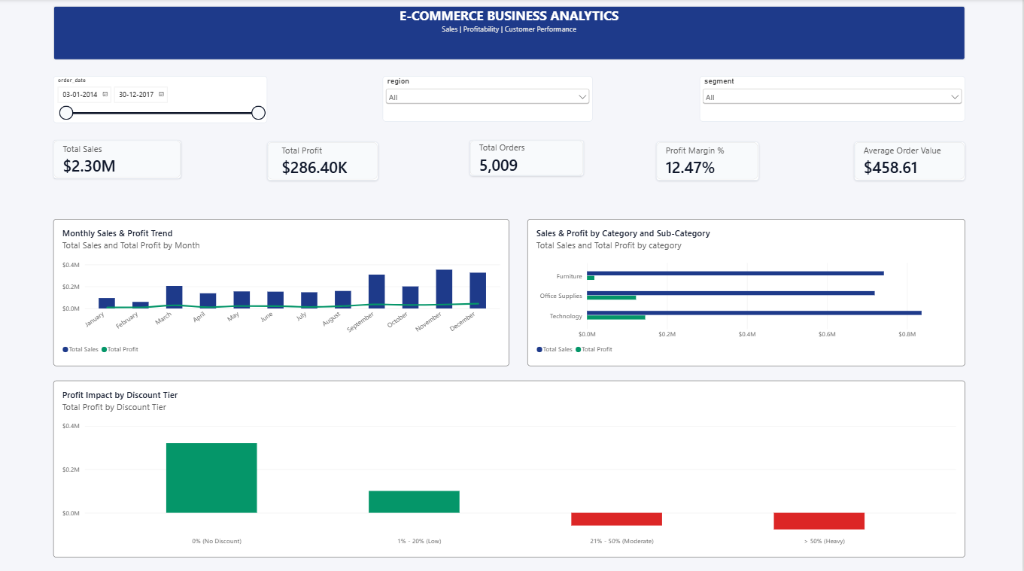

What the dashboard file says about the page in this screenshot:
{"tool":"powerbi","page":{"name":"Page 1","canvas":[1920,1080],"ordinal":0},"visuals":[{"type":"slicer","fields":{"Values":["public superstore_orders.order_date"]},"box":[100,148,402,88],"z":0},{"type":"slicer","fields":{"Values":["public superstore_orders.region"]},"box":[718,148,394,86],"z":1},{"type":"slicer","fields":{"Values":["public superstore_orders.segment"]},"box":[1314,148,498,86],"z":2},{"type":"cardVisual","fields":{"Data":["Measures (2).Total Sales"]},"box":[100,268,240,72.9],"z":3},{"type":"cardVisual","fields":{"Data":["Measures (2).Total Profit"]},"box":[502,272,208.6,72.9],"z":4},{"type":"cardVisual","fields":{"Data":["Measures (2).Total Orders"]},"box":[882,268,214,68],"z":5},{"type":"cardVisual","fields":{"Data":["Measures (2).Profit Margin %"]},"box":[1232,272,192.9,72.9],"z":6},{"type":"cardVisual","fields":{"Data":["Measures (2).Average Order Value"]},"box":[1604,272,208.6,72.9],"z":7},{"type":"lineClusteredColumnComboChart","title":"Monthly Sales & Profit Trend","fields":{"Category":["public superstore_orders.order_date.Variation.Date Hierarchy.Year","public superstore_orders.order_date.Variation.Date Hierarchy.Month"],"Y":["Measures (2).Total Sales"],"Y2":["Measures (2).Total Profit"]},"box":[100,416,856,276],"z":8},{"type":"clusteredBarChart","title":"Sales & Profit by Category and Sub-Category","fields":{"Category":["public superstore_orders.category","public superstore_orders.sub_category"],"Y":["Measures (2).Total Sales","Measures (2).Total Profit"]},"box":[990,416,822,276],"z":9},{"type":"clusteredColumnChart","title":"Profit Impact by Discount Tier","fields":{"Category":["public superstore_orders.Discount Tier"],"Y":["Measures (2).Total Profit"]},"box":[100,720,1712,332],"z":10},{"type":"textbox","box":[100,16,1712,102],"z":11}]}

Visuals, with their boxes in screenshot pixels (x1, y1, x2, y2), scaled from the page's 1920x1080 canvas onto the 1024x571 screenshot:
slicer - public superstore_orders.order_date: [x1=53, y1=78, x2=268, y2=125]
slicer - public superstore_orders.region: [x1=383, y1=78, x2=593, y2=124]
slicer - public superstore_orders.segment: [x1=701, y1=78, x2=966, y2=124]
cardVisual - Measures (2).Total Sales: [x1=53, y1=142, x2=181, y2=180]
cardVisual - Measures (2).Total Profit: [x1=268, y1=144, x2=379, y2=182]
cardVisual - Measures (2).Total Orders: [x1=470, y1=142, x2=585, y2=178]
cardVisual - Measures (2).Profit Margin %: [x1=657, y1=144, x2=760, y2=182]
cardVisual - Measures (2).Average Order Value: [x1=855, y1=144, x2=967, y2=182]
"Monthly Sales & Profit Trend" lineClusteredColumnComboChart: [x1=53, y1=220, x2=510, y2=366]
"Sales & Profit by Category and Sub-Category" clusteredBarChart: [x1=528, y1=220, x2=966, y2=366]
"Profit Impact by Discount Tier" clusteredColumnChart: [x1=53, y1=381, x2=966, y2=556]
textbox: [x1=53, y1=8, x2=966, y2=62]
